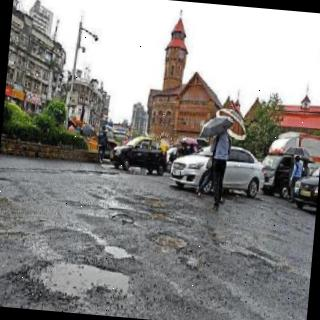pothole: (53, 264, 129, 290), (157, 235, 186, 249), (105, 246, 132, 259), (111, 214, 134, 224)
